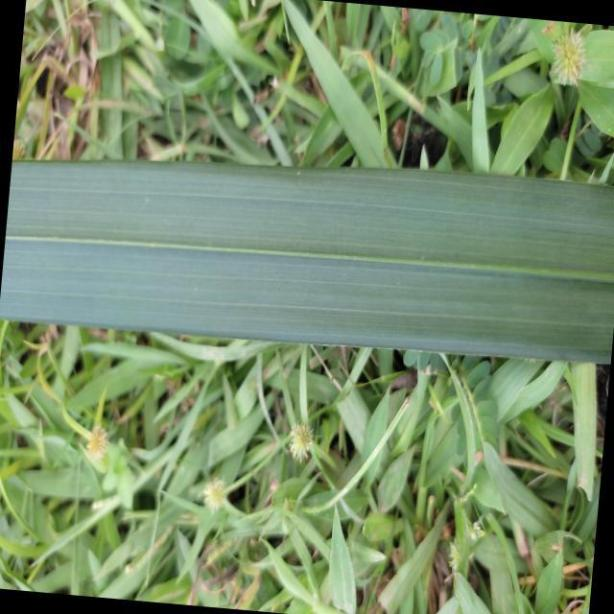Healthy: (3, 157, 614, 361)
